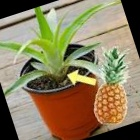Pineapple: (94, 44, 132, 124)
